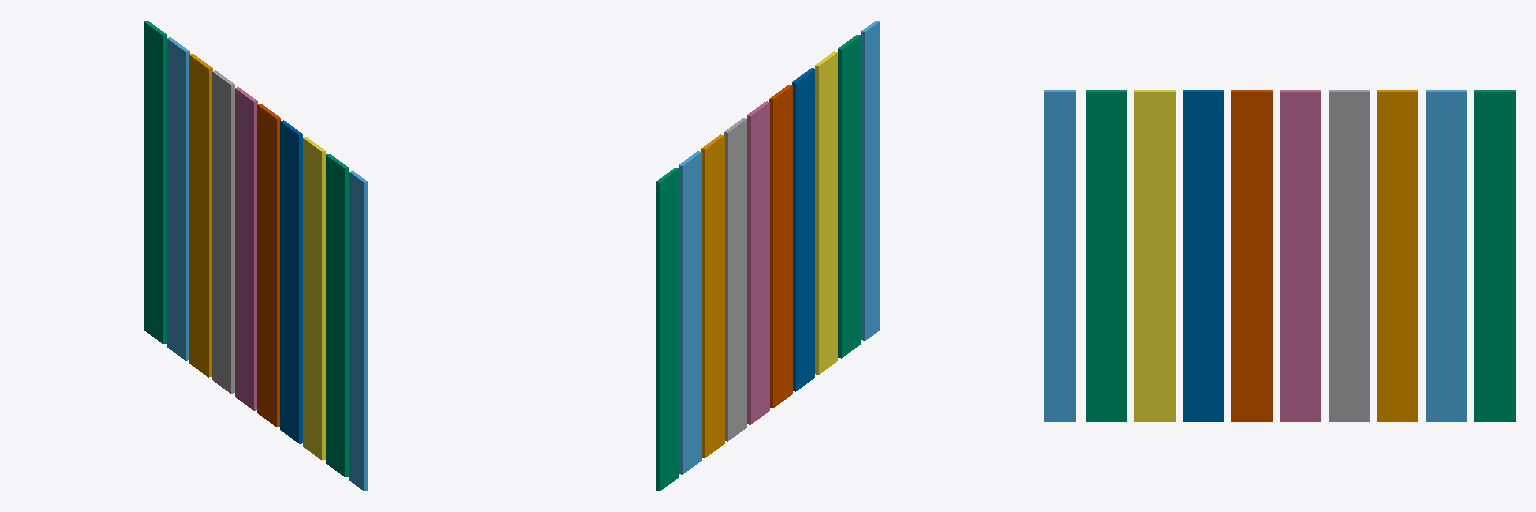
robot.urdf — window_kitchenitchen:
<?xml version="1.0" ?>

<robot name="window_kitchenitchen">
  
  <gazebo reference="wbase_kitchen">
    <material>Gazebo/GrassFloor</material>
  </gazebo>

  <link name="world"/>

  <joint name="wlink_joint_kitchen1" type="revolute">
    <axis xyz="0 0 1"/>
    <parent link="world"/>
    <origin rpy="0 0 0" xyz="-0.15 3.385 1.5"/>
    <limit effort="1000.0" lower="-0" upper="1.57" velocity="0.5"/>
    <child link="wlink_kitchen1"/>
    <dynamics damping="10" friction="1000"/>
  </joint>
  
  <joint name="wlink_joint_kitchen2" type="revolute">
    <axis xyz="0 0 1"/>
    <parent link="world"/>
    <origin rpy="0 0 0" xyz="-0.15 3.575 1.5"/>
    <limit effort="1000.0" lower="-0" upper="1.57" velocity="0.5"/>
    <child link="wlink_kitchen2"/>
    <dynamics damping="10" friction="1000"/>
  </joint>
  
  <joint name="wlink_joint_kitchen3" type="revolute">
    <axis xyz="0 0 1"/>
    <parent link="world"/>
    <origin rpy="0 0 0" xyz="-0.15 3.775 1.5"/>
    <limit effort="1000.0" lower="-0" upper="1.57" velocity="0.5"/>
    <child link="wlink_kitchen3"/>
    <dynamics damping="10" friction="1000"/>
  </joint>
  
  <joint name="wlink_joint_kitchen4" type="revolute">
    <axis xyz="0 0 1"/>
    <parent link="world"/>
    <origin rpy="0 0 0" xyz="-0.15 3.975 1.5"/>
    <limit effort="1000.0" lower="-0" upper="1.57" velocity="0.5"/>
    <child link="wlink_kitchen4"/>
    <dynamics damping="10" friction="1000"/>
  </joint>
  
  <joint name="wlink_joint_kitchen5" type="revolute">
    <axis xyz="0 0 1"/>
    <parent link="world"/>
    <origin rpy="0 0 0" xyz="-0.15 4.175 1.5"/>
    <limit effort="1000.0" lower="-0" upper="1.57" velocity="0.5"/>
    <child link="wlink_kitchen5"/>
    <dynamics damping="10" friction="1000"/>
  </joint>
  
  <joint name="wlink_joint_kitchen6" type="revolute">
    <axis xyz="0 0 1"/>
    <parent link="world"/>
    <origin rpy="0 0 0" xyz="-0.15 4.375 1.5"/>
    <limit effort="1000.0" lower="-0" upper="1.57" velocity="0.5"/>
    <child link="wlink_kitchen6"/>
    <dynamics damping="10" friction="1000"/>
  </joint>
  
  <joint name="wlink_joint_kitchen7" type="revolute">
    <axis xyz="0 0 1"/>
    <parent link="world"/>
    <origin rpy="0 0 0" xyz="-0.15 4.575 1.5"/>
    <limit effort="1000.0" lower="-0" upper="1.57" velocity="0.5"/>
    <child link="wlink_kitchen7"/>
    <dynamics damping="10" friction="1000"/>
  </joint>
  
  <joint name="wlink_joint_kitchen8" type="revolute">
    <axis xyz="0 0 1"/>
    <parent link="world"/>
    <origin rpy="0 0 0" xyz="-0.15 4.775 1.5"/>
    <limit effort="1000.0" lower="-0" upper="1.57" velocity="0.5"/>
    <child link="wlink_kitchen8"/>
    <dynamics damping="10" friction="1000"/>
  </joint>
  
  <joint name="wlink_joint_kitchen9" type="revolute">
    <axis xyz="0 0 1"/>
    <parent link="world"/>
    <origin rpy="0 0 0" xyz="-0.15 4.975 1.5"/>
    <limit effort="1000.0" lower="-0" upper="1.57" velocity="0.5"/>
    <child link="wlink_kitchen9"/>
    <dynamics damping="10" friction="1000"/>
  </joint>
  
  <joint name="wlink_joint_kitchen:" type="revolute">
    <axis xyz="0 0 1"/>
    <parent link="world"/>
    <origin rpy="0 0 0" xyz="-0.15 5.175 1.5"/>
    <limit effort="1000.0" lower="-0" upper="1.57" velocity="0.5"/>
    <child link="wlink_kitchen:"/>
    <dynamics damping="10" friction="1000"/>
  </joint>
  

  <link name="wlink_kitchen1">
    <inertial>
      <mass value="1"/>
      <origin xyz="0 0 0"/>
      <inertia ixx="1.0" ixy="0.0" ixz="0.0" iyy="0.1" iyz="0.0" izz="0.1"/>
    </inertial>
    <visual>
      <origin rpy="0 0 1.57" xyz="0 0 0"/>
      <geometry>
        <box size="0.13 0.02 1.5"/>
      </geometry>
    </visual>
    <collision>
      <origin rpy="0 0 1.57" xyz="0 0 0"/>
      <geometry>
        <box size="0.13 0.02 1.5"/>
      </geometry>
    </collision>
  </link>
  <gazebo reference="wlink_kitchen1">
    <material>Gazebo/RustySteel</material>
    <turnGravityOff>true</turnGravityOff>
  </gazebo>

  <link name="wlink_kitchen2">
    <inertial>
      <mass value="10"/>
      <origin xyz="0 0 0"/>
      <inertia ixx="1.0" ixy="0.0" ixz="0.0" iyy="0.1" iyz="0.0" izz="0.1"/>
    </inertial>
    <visual>
      <origin rpy="0 0 1.57" xyz="0 0 0"/>
      <geometry>
        <box size="0.17 0.02 1.5"/>
      </geometry>
    </visual>
    <collision>
      <origin rpy="0 0 1.57" xyz="0 0 0"/>
      <geometry>
        <box size="0.17 0.02 1.5"/>
      </geometry>
    </collision>
  </link>
  <gazebo reference="wlink_kitchen2">
    <material>Gazebo/RustySteel</material>
    <turnGravityOff>true</turnGravityOff>
  </gazebo>
  
  <link name="wlink_kitchen3">
    <inertial>
      <mass value="10"/>
      <origin xyz="0 0 0"/>
      <inertia ixx="1.0" ixy="0.0" ixz="0.0" iyy="0.1" iyz="0.0" izz="0.1"/>
    </inertial>
    <visual>
      <origin rpy="0 0 1.57" xyz="0 0 0"/>
      <geometry>
        <box size="0.17 0.02 1.5"/>
      </geometry>
    </visual>
    <collision>
      <origin rpy="0 0 1.57" xyz="0 0 0"/>
      <geometry>
        <box size="0.17 0.02 1.5"/>
      </geometry>
    </collision>
  </link>
  <gazebo reference="wlink_kitchen3">
    <material>Gazebo/RustySteel</material>
    <turnGravityOff>true</turnGravityOff>
  </gazebo>
  
  <link name="wlink_kitchen4">
    <inertial>
      <mass value="10"/>
      <origin xyz="0 0 0"/>
      <inertia ixx="1.0" ixy="0.0" ixz="0.0" iyy="0.1" iyz="0.0" izz="0.1"/>
    </inertial>
    <visual>
      <origin rpy="0 0 1.57" xyz="0 0 0"/>
      <geometry>
        <box size="0.17 0.02 1.5"/>
      </geometry>
    </visual>
    <collision>
      <origin rpy="0 0 1.57" xyz="0 0 0"/>
      <geometry>
        <box size="0.17 0.02 1.5"/>
      </geometry>
    </collision>
  </link>
  <gazebo reference="wlink_kitchen4">
    <material>Gazebo/RustySteel</material>
    <turnGravityOff>true</turnGravityOff>
  </gazebo>
  
  <link name="wlink_kitchen5">
    <inertial>
      <mass value="10"/>
      <origin xyz="0 0 0"/>
      <inertia ixx="1.0" ixy="0.0" ixz="0.0" iyy="0.1" iyz="0.0" izz="0.1"/>
    </inertial>
    <visual>
      <origin rpy="0 0 1.57" xyz="0 0 0"/>
      <geometry>
        <box size="0.17 0.02 1.5"/>
      </geometry>
    </visual>
    <collision>
      <origin rpy="0 0 1.57" xyz="0 0 0"/>
      <geometry>
        <box size="0.17 0.02 1.5"/>
      </geometry>
    </collision>
  </link>
  <gazebo reference="wlink_kitchen5">
    <material>Gazebo/RustySteel</material>
    <turnGravityOff>true</turnGravityOff>
  </gazebo>

  <link name="wlink_kitchen6">
    <inertial>
      <mass value="10"/>
      <origin xyz="0 0 0"/>
      <inertia ixx="1.0" ixy="0.0" ixz="0.0" iyy="0.1" iyz="0.0" izz="0.1"/>
    </inertial>
    <visual>
      <origin rpy="0 0 1.57" xyz="0 0 0"/>
      <geometry>
        <box size="0.17 0.02 1.5"/>
      </geometry>
    </visual>
    <collision>
      <origin rpy="0 0 1.57" xyz="0 0 0"/>
      <geometry>
        <box size="0.17 0.02 1.5"/>
      </geometry>
    </collision>
  </link>
  <gazebo reference="wlink_kitchen6">
    <material>Gazebo/RustySteel</material>
    <turnGravityOff>true</turnGravityOff>
  </gazebo>
  
  <link name="wlink_kitchen7">
    <inertial>
      <mass value="1"/>
      <origin xyz="0 0 0"/>
      <inertia ixx="1.0" ixy="0.0" ixz="0.0" iyy="0.1" iyz="0.0" izz="0.1"/>
    </inertial>
    <visual>
      <origin rpy="0 0 1.57" xyz="0 0 0"/>
      <geometry>
        <box size="0.17 0.02 1.5"/>
      </geometry>
    </visual>
    <collision>
      <origin rpy="0 0 1.57" xyz="0 0 0"/>
      <geometry>
        <box size="0.17 0.02 1.5"/>
      </geometry>
    </collision>
  </link>
  <gazebo reference="wlink_kitchen7">
    <material>Gazebo/RustySteel</material>
    <turnGravityOff>true</turnGravityOff>
  </gazebo>
  
  <link name="wlink_kitchen8">
    <inertial>
      <mass value="10"/>
      <origin xyz="0 0 0"/>
      <inertia ixx="1.0" ixy="0.0" ixz="0.0" iyy="0.1" iyz="0.0" izz="0.1"/>
    </inertial>
    <visual>
      <origin rpy="0 0 1.57" xyz="0 0 0"/>
      <geometry>
        <box size="0.17 0.02 1.5"/>
      </geometry>
    </visual>
    <collision>
      <origin rpy="0 0 1.57" xyz="0 0 0"/>
      <geometry>
        <box size="0.17 0.02 1.5"/>
      </geometry>
    </collision>
  </link>
  <gazebo reference="wlink_kitchen8">
    <material>Gazebo/RustySteel</material>
    <turnGravityOff>true</turnGravityOff>
  </gazebo>
  
  <link name="wlink_kitchen9">
    <inertial>
      <mass value="10"/>
      <origin xyz="0 0 0"/>
      <inertia ixx="1.0" ixy="0.0" ixz="0.0" iyy="0.1" iyz="0.0" izz="0.1"/>
    </inertial>
    <visual>
      <origin rpy="0 0 1.57" xyz="0 0 0"/>
      <geometry>
        <box size="0.17 0.02 1.5"/>
      </geometry>
    </visual>
    <collision>
      <origin rpy="0 0 1.57" xyz="0 0 0"/>
      <geometry>
        <box size="0.17 0.02 1.5"/>
      </geometry>
    </collision>
  </link>
  <gazebo reference="wlink_kitchen9">
    <material>Gazebo/RustySteel</material>
    <turnGravityOff>true</turnGravityOff>
  </gazebo>
  
  <link name="wlink_kitchen:">
    <inertial>
      <mass value="10"/>
      <origin xyz="0 0 0"/>
      <inertia ixx="1.0" ixy="0.0" ixz="0.0" iyy="0.1" iyz="0.0" izz="0.1"/>
    </inertial>
    <visual>
      <origin rpy="0 0 1.57" xyz="0 0 0"/>
      <geometry>
        <box size="0.17 0.02 1.5"/>
      </geometry>
    </visual>
    <collision>
      <origin rpy="0 0 1.57" xyz="0 0 0"/>
      <geometry>
        <box size="0.17 0.02 1.5"/>
      </geometry>
    </collision>
  </link>
  <gazebo reference="wlink_kitchen:">
    <material>Gazebo/RustySteel</material>
    <turnGravityOff>true</turnGravityOff>
  </gazebo>
</robot>

--- What the picture shows (computed from the rendered views, not written in the file) ---
The picture shows the robot from 3 angles, left to right: view 1: azimuth 30°, elevation 25°; view 2: azimuth 150°, elevation 25°; view 3: azimuth 270°, elevation 25°; orthographic projection.
Model window_kitchenitchen with 11 links and 10 joints (10 revolute), rooted at world, posed all joints at 0.
Visible links, largest first — view 1: wlink_kitchen5, wlink_kitchen8, wlink_kitchen2, wlink_kitchen7, wlink_kitchen3, wlink_kitchen4, wlink_kitchen:, wlink_kitchen6, wlink_kitchen9, wlink_kitchen1; view 2: wlink_kitchen5, wlink_kitchen8, wlink_kitchen2, wlink_kitchen9, wlink_kitchen:, wlink_kitchen3, wlink_kitchen6, wlink_kitchen7, wlink_kitchen4, wlink_kitchen1; view 3: wlink_kitchen3, wlink_kitchen5, wlink_kitchen:, wlink_kitchen2, wlink_kitchen4, wlink_kitchen6, wlink_kitchen7, wlink_kitchen8, wlink_kitchen9, wlink_kitchen1.
Link boxes in pixels (<box>): wlink_kitchen5: <box>257,104,280,426</box>; wlink_kitchen8: <box>189,54,212,377</box>; wlink_kitchen2: <box>326,154,348,476</box>; wlink_kitchen7: <box>212,70,234,393</box>; wlink_kitchen3: <box>303,137,325,460</box>; wlink_kitchen4: <box>280,120,302,443</box>; wlink_kitchen:: <box>144,21,166,343</box>; wlink_kitchen6: <box>235,87,257,410</box>; wlink_kitchen9: <box>167,37,189,360</box>; wlink_kitchen1: <box>349,171,367,490</box>; wlink_kitchen5: <box>769,85,792,407</box>; wlink_kitchen8: <box>701,134,724,457</box>; wlink_kitchen2: <box>838,35,860,358</box>; wlink_kitchen9: <box>679,151,701,474</box>; wlink_kitchen:: <box>656,168,678,490</box>; wlink_kitchen3: <box>815,51,837,374</box>; wlink_kitchen6: <box>747,101,769,424</box>; wlink_kitchen7: <box>724,118,746,441</box>; wlink_kitchen4: <box>792,68,814,391</box>; wlink_kitchen1: <box>861,21,879,340</box>; wlink_kitchen3: <box>1134,90,1175,421</box>; wlink_kitchen5: <box>1231,90,1272,421</box>; wlink_kitchen:: <box>1474,90,1515,421</box>; wlink_kitchen2: <box>1086,90,1126,421</box>; wlink_kitchen4: <box>1183,90,1223,421</box>; wlink_kitchen6: <box>1280,90,1320,421</box>; wlink_kitchen7: <box>1329,90,1369,421</box>; wlink_kitchen8: <box>1377,90,1417,421</box>; wlink_kitchen9: <box>1426,90,1466,421</box>; wlink_kitchen1: <box>1044,90,1075,421</box>.
Size in the robot's own frame: 0.0201 by 1.94 by 1.5 metres.
Geometry: primitives only (box / cylinder / sphere), no mesh files.
